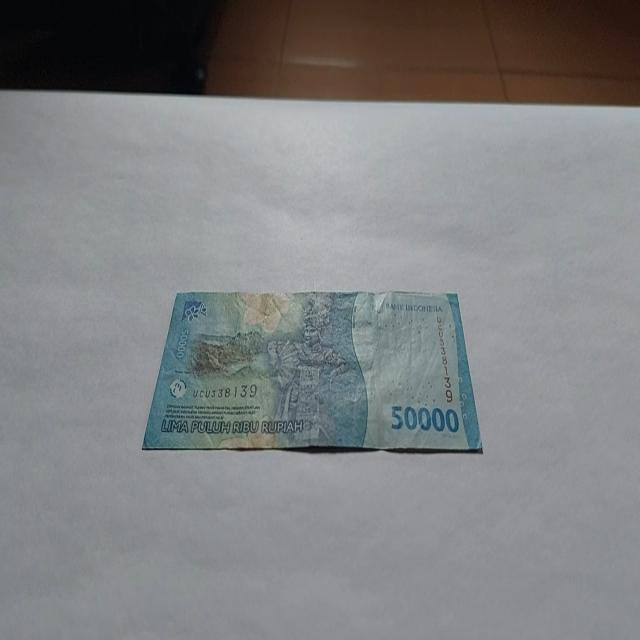lima puluh ribu rupiah: (140, 287, 483, 455)
